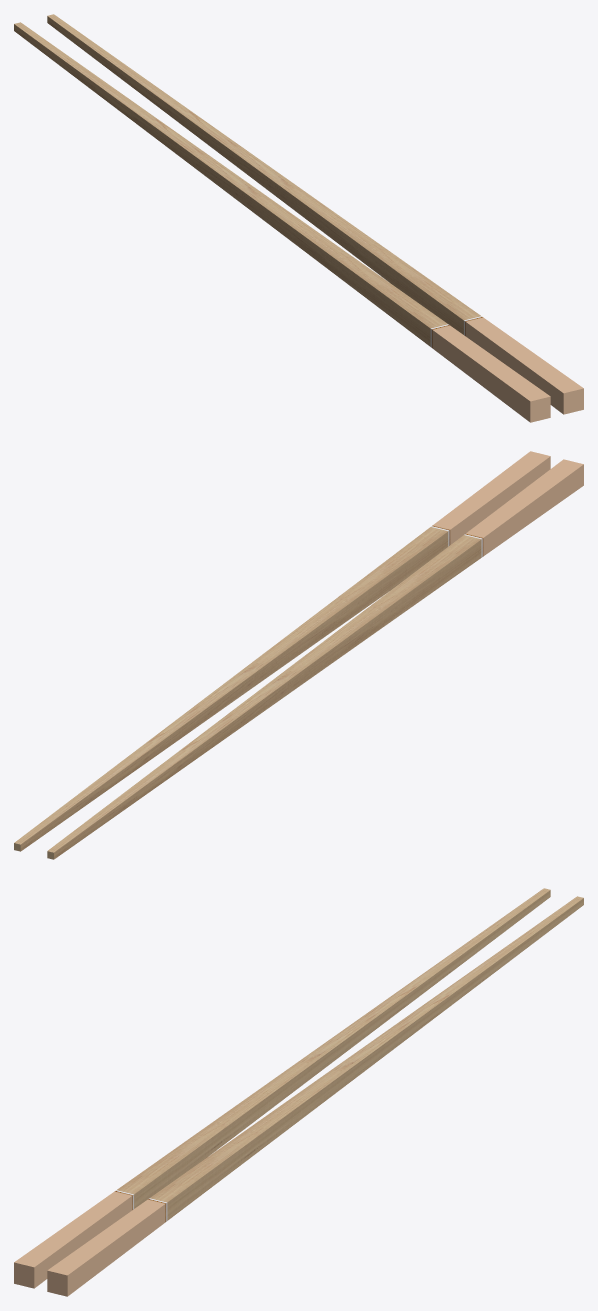
File: chopsticks_C.fbx
3 renders of one model, top to bottom at view 1: azimuth 30°, elevation 25°; view 2: azimuth 150°, elevation 25°; view 3: azimuth 330°, elevation 25°, orthographic.
Visible parts, largest first — view 1: Chopstics_C; view 2: Chopstics_C; view 3: Chopstics_C.
Part boxes in pixels (box(x1,y1,x2,y2)): Chopstics_C: box(14, 14, 583, 422); Chopstics_C: box(14, 451, 583, 859); Chopstics_C: box(14, 888, 583, 1296).
Bounding box in the file's own units: 1.05 × 0.3989 × 17.77.
2 materials, 1 textured.
